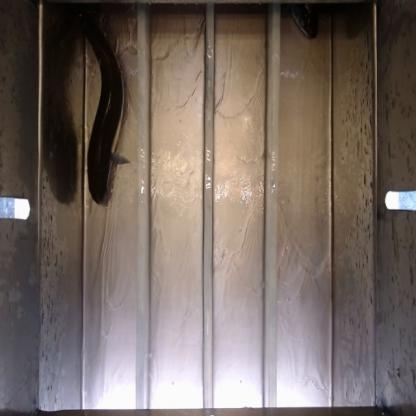pezw: (83, 24, 133, 209)
